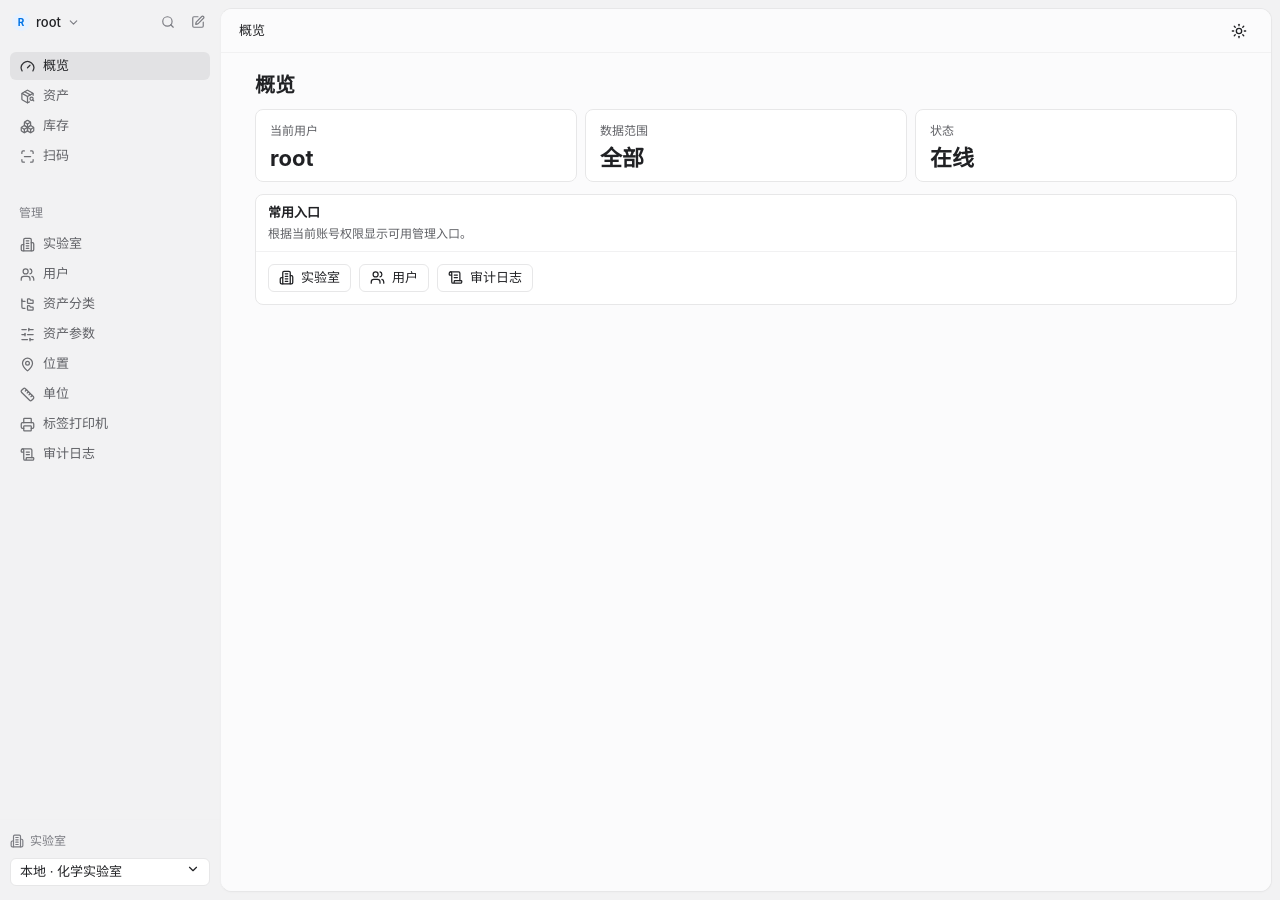
it: CommandMenu › filters the command list as you type
Expected: the heading "概览" is shown, top-left (255, 73), bottom-right (295, 97)
Click the button named "搜索": [168, 22] box top-left (154, 8), bottom-right (182, 36)
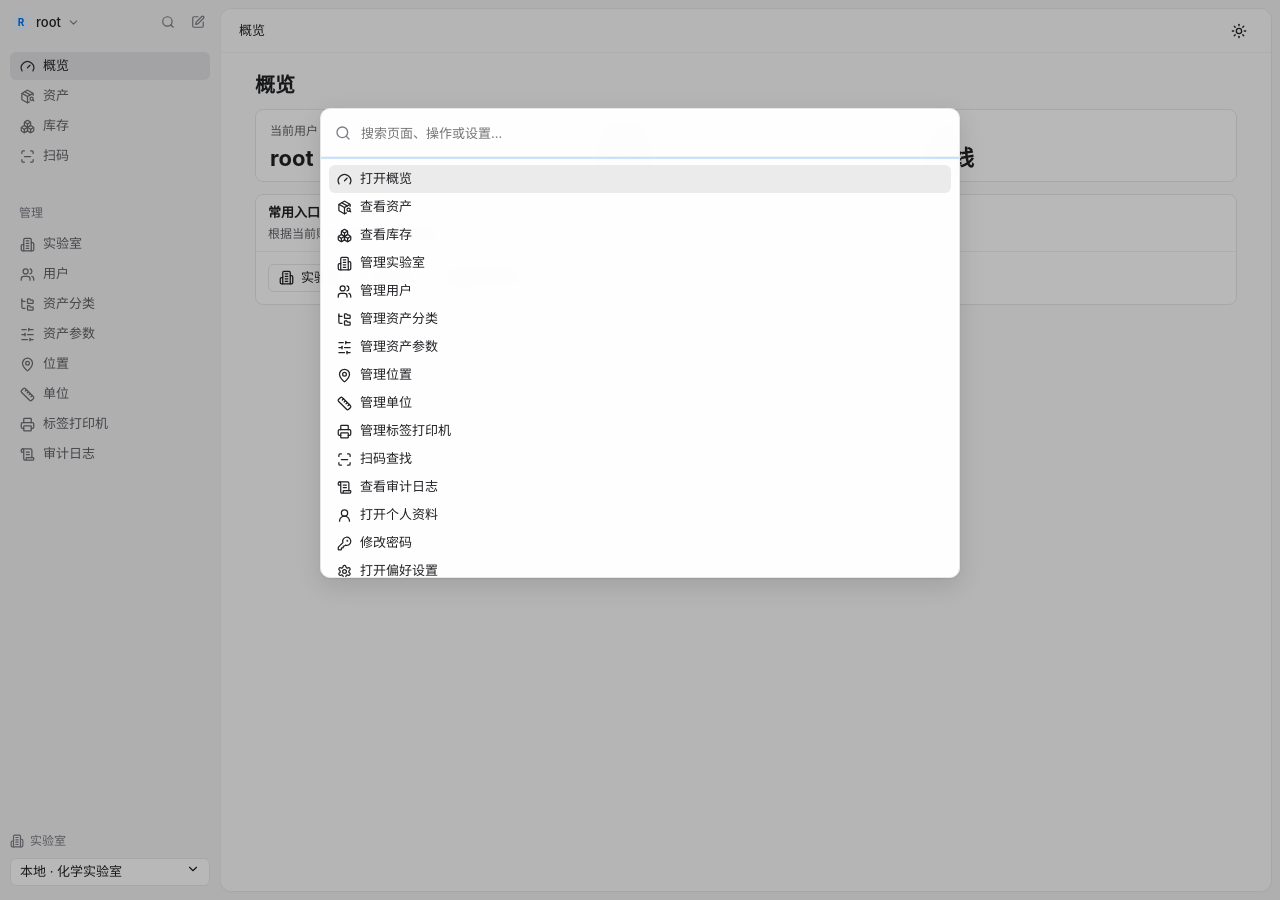
In the dropdown with placeholder "搜索页面、操作或设置...": [640, 133] box top-left (321, 109), bottom-right (959, 157), type "审计"
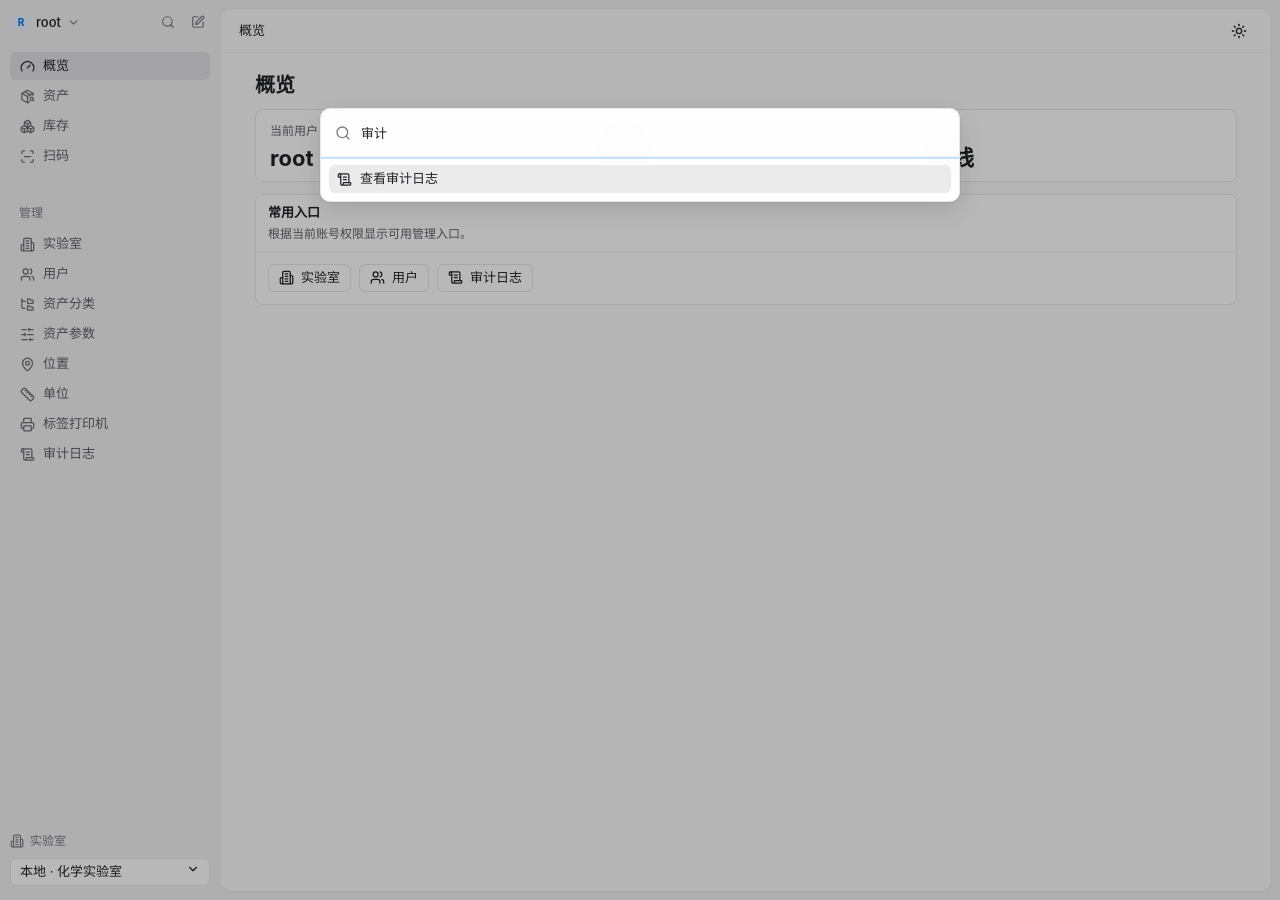
Now the option "查看审计日志" is shown, box top-left (329, 165), bottom-right (951, 193)
Now the option "打开概览" is gone
